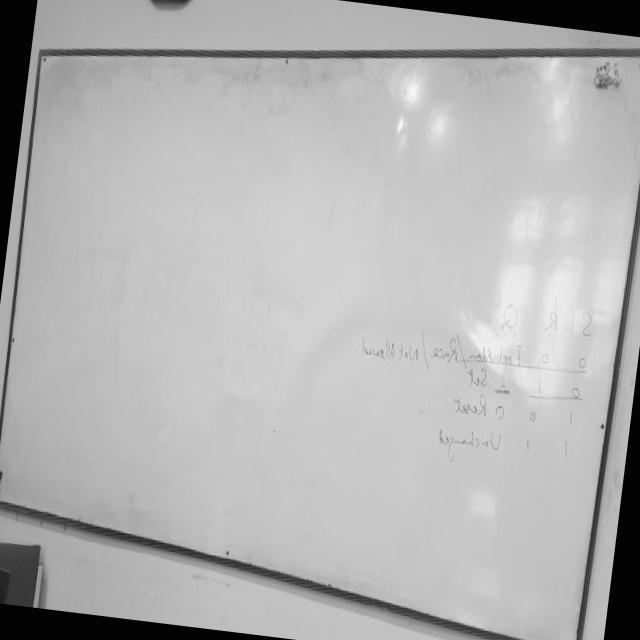White-board: (0, 50, 640, 640)
